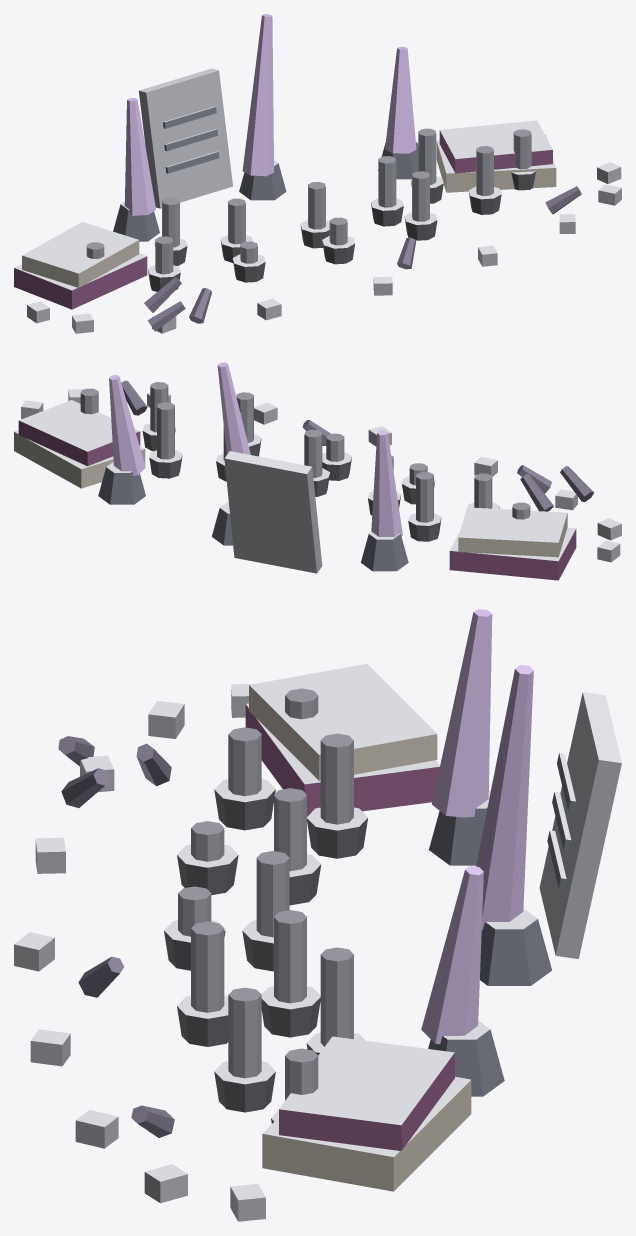
Rendered from PR_Oferendas_B.fbx.
3 renders of one model, top to bottom at view 1: azimuth 30°, elevation 25°; view 2: azimuth 150°, elevation 25°; view 3: azimuth 270°, elevation 25°, orthographic. The views are drawn at different scales.
Visible parts, largest first — view 1: PR_Oferendas_B; view 2: PR_Oferendas_B; view 3: PR_Oferendas_B.
Boxes of the visible parts, x1=… form: PR_Oferendas_B: x1=14, y1=14, x2=621, y2=333; PR_Oferendas_B: x1=14, y1=362, x2=621, y2=580; PR_Oferendas_B: x1=14, y1=609, x2=621, y2=1221.
Size of the model in its own units: 2.57 by 0.7296 by 1.28.
